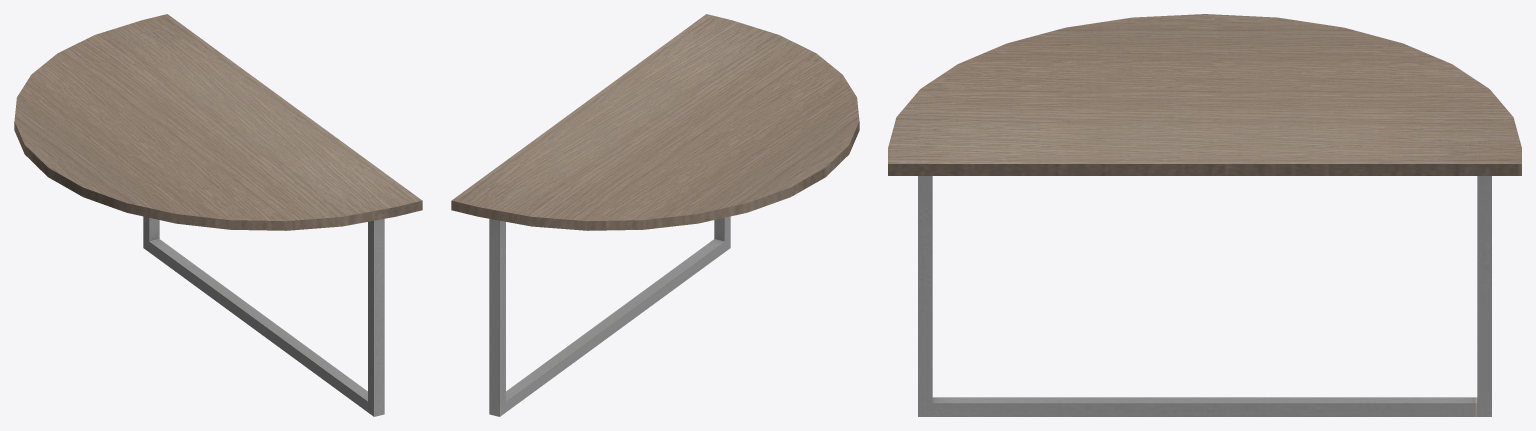
File: Table_HalfCircle.gltf
3 renders of one model, left to right at view 1: azimuth 30°, elevation 25°; view 2: azimuth 150°, elevation 25°; view 3: azimuth 270°, elevation 25°, orthographic. The views are drawn at different scales.
Parts seen in each view (by area): view 1: halfCircleTable; view 2: halfCircleTable; view 3: halfCircleTable.
Part boxes in pixels (<box>): halfCircleTable: <box>14,14,422,416</box>; halfCircleTable: <box>451,14,859,416</box>; halfCircleTable: <box>888,14,1521,416</box>.
Bounding box in the file's own units: 9.51 × 7.96 × 17.
1 material, 1 textured.
